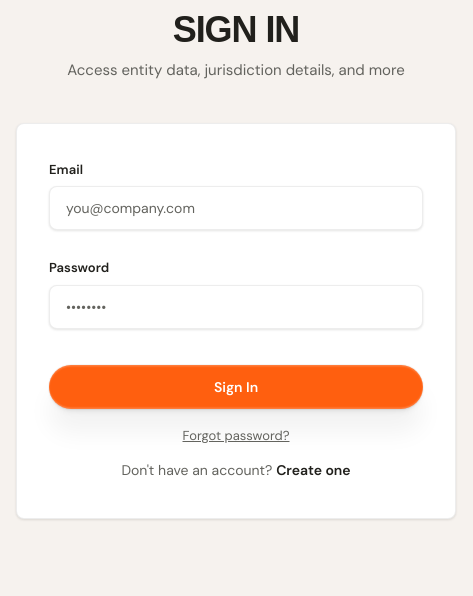
it: LoginPage › shows error message on failed sign in
This screenshot has width=473, height=596.
In the field labelled "Email": (236, 208) [49,186,423,230], type "test@example.com"
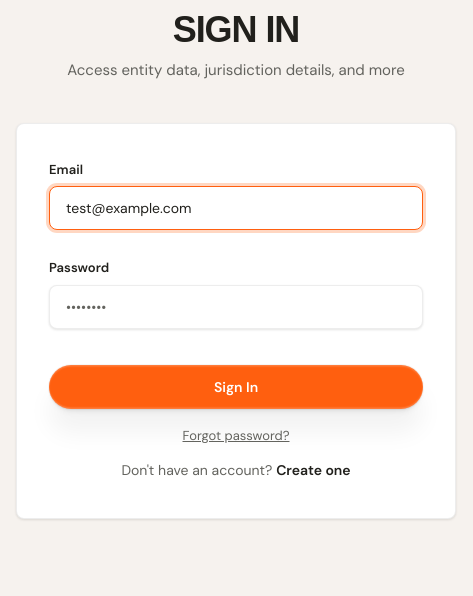
In the password field labelled "Password": (236, 307) [49,285,423,329], type "password123"
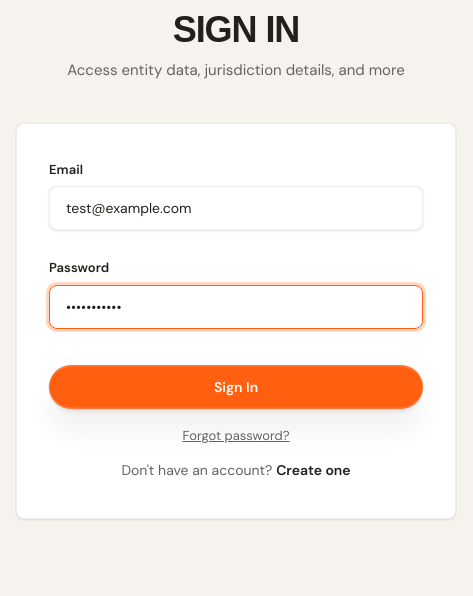
Click the button "Sign In": (236, 387) [49,365,423,409]
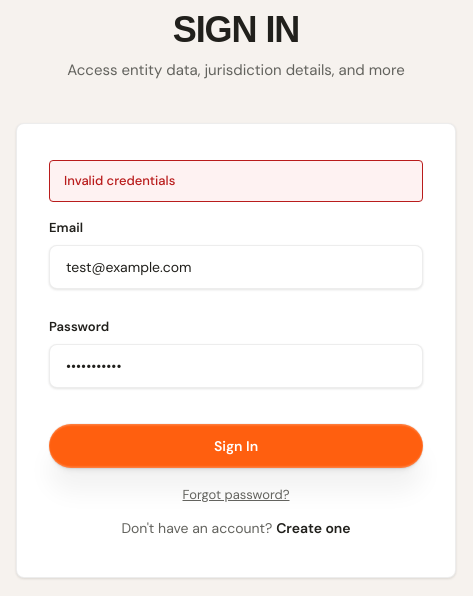
Expected: the text "Invalid credentials" is shown, [49,160,423,202]
